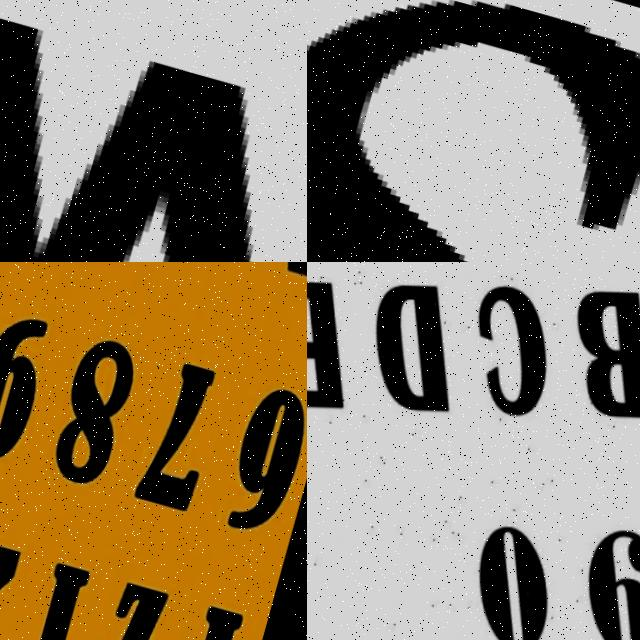0: (419, 488, 597, 640)
1: (7, 546, 99, 640)
2: (0, 517, 38, 640)
6: (208, 366, 307, 558)
7: (123, 336, 241, 538)
8: (28, 314, 158, 514)
9: (537, 491, 640, 640), (0, 283, 66, 485)
S: (307, 0, 640, 262)
W: (0, 0, 307, 262)
